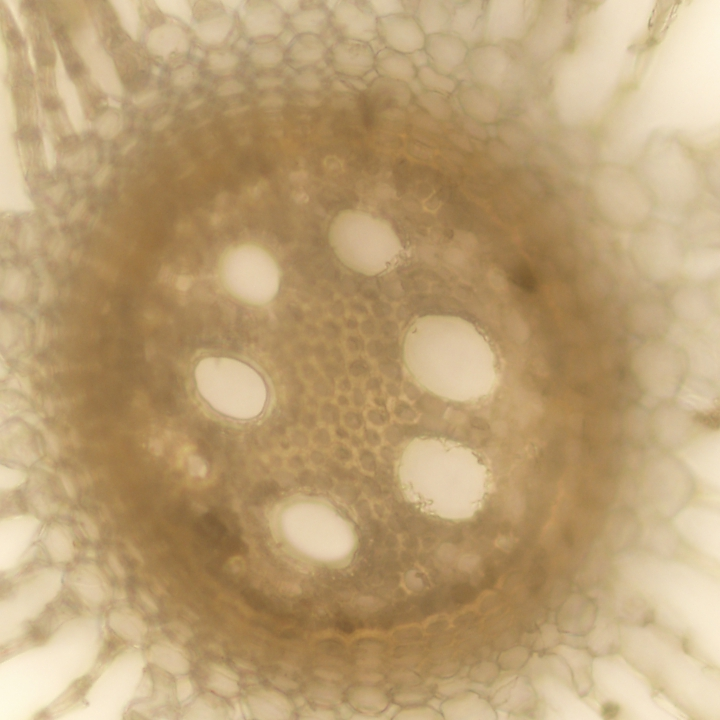lm: (401, 313, 498, 402), (398, 436, 490, 521), (271, 492, 360, 568), (327, 208, 404, 277), (191, 354, 269, 421), (218, 241, 281, 307)
